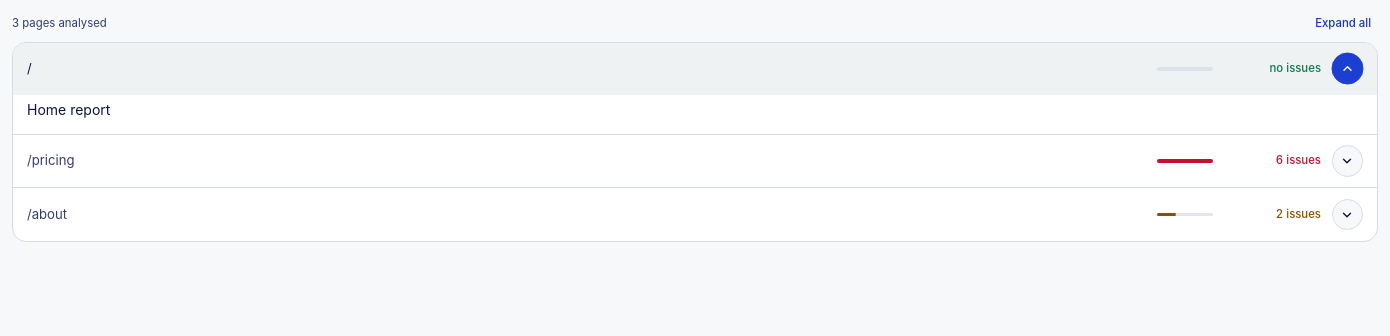
Test: PageSections › expands and collapses the whole report from one control
Click the button "Expand all" at (1343, 23), box [1308,12,1378,35]
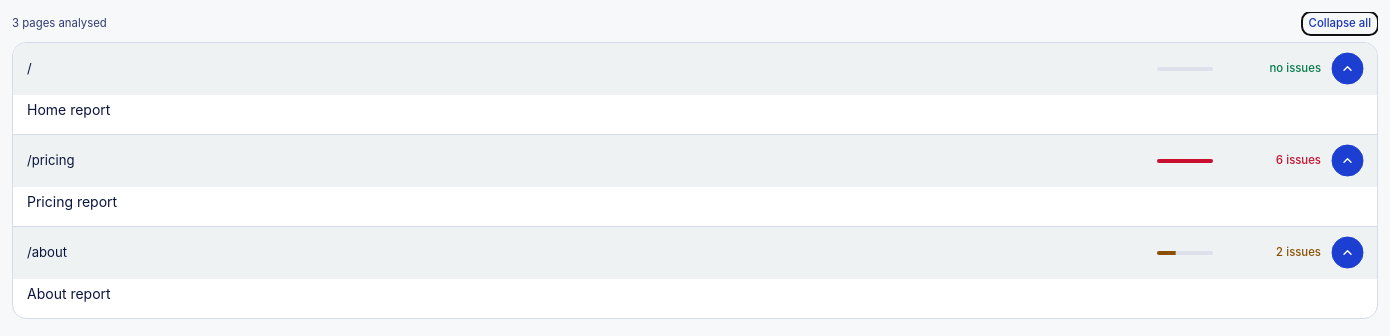
Check: the text "Pricing report" is shown, box [27,193,117,210]
Check: the text "About report" is shown, box [27,285,111,302]
// The control now offers the opposite, rather than lying about what it does.
Click the button "Collapse all" at (1340, 23), box [1302,12,1378,35]
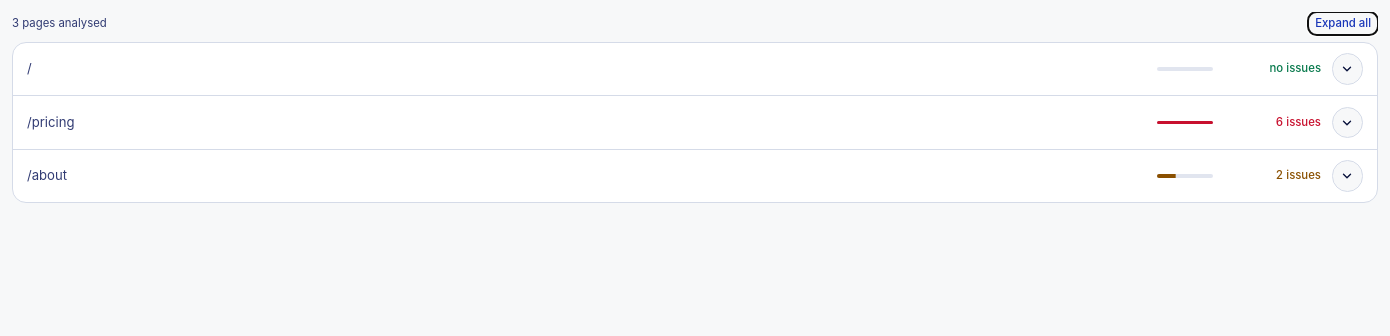
Check: the text "Home report" is gone
